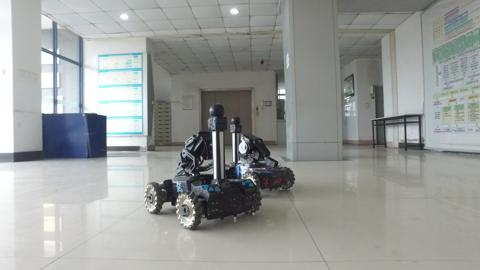chariot: (142, 98, 264, 231), (225, 116, 298, 199)
